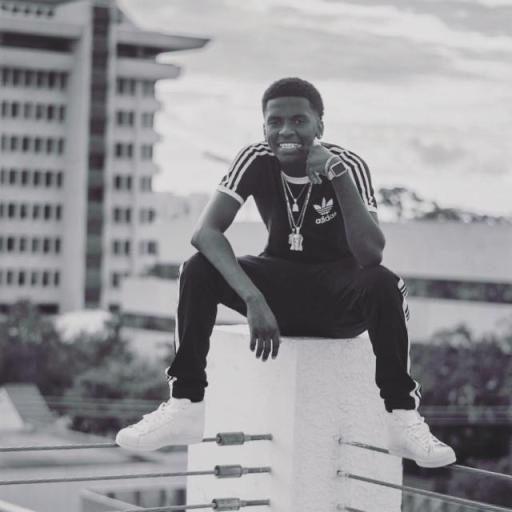Adidas: (311, 192, 339, 226)
